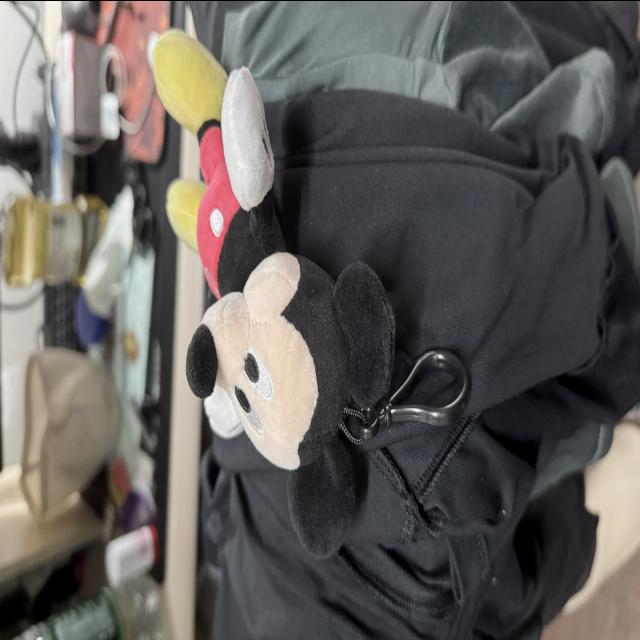mickey: (187, 252, 394, 555)
